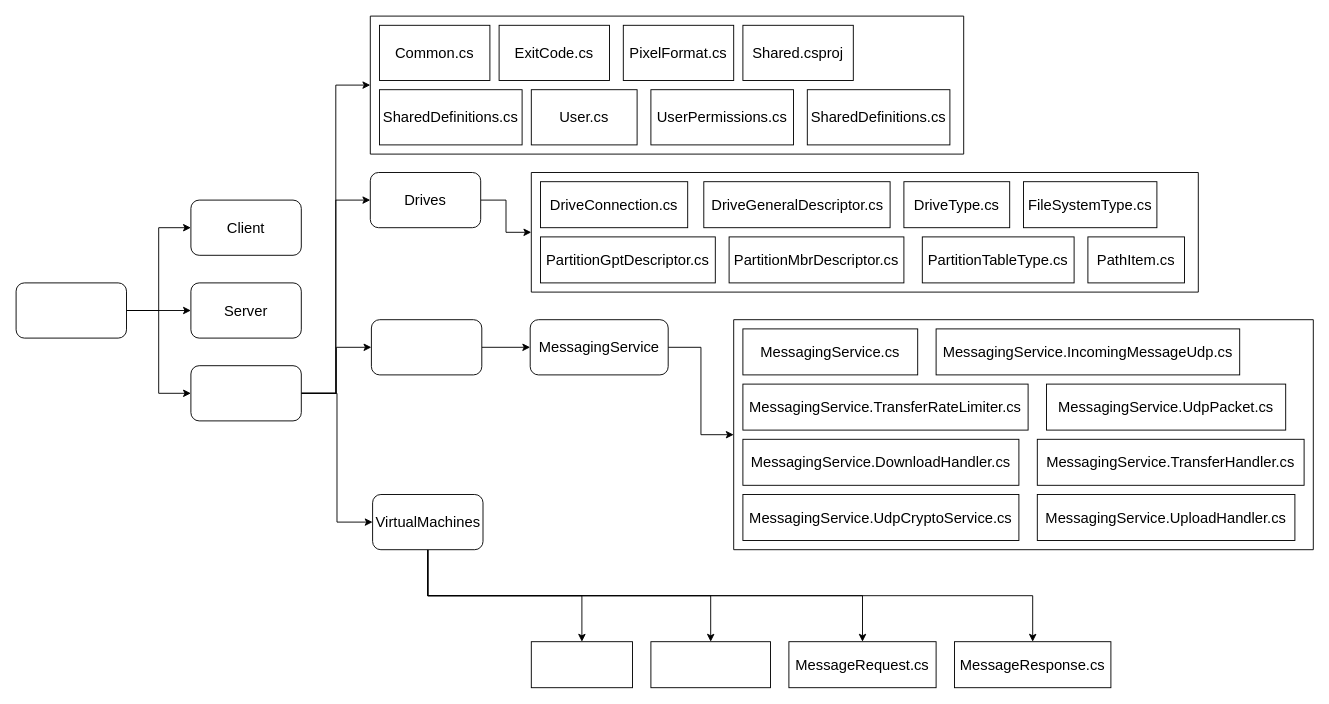
Some shapes in this 1329 by 704 pixel diagram are drawn without their labels. Here are the shapes that lost their labels. From the top down, the centre of each, then its label:
(70,310): תיקיית המערכת
(426,347): Networking
(245,393): Shared
(581,664): Message.cs
(710,664): MessageInfo.cs
